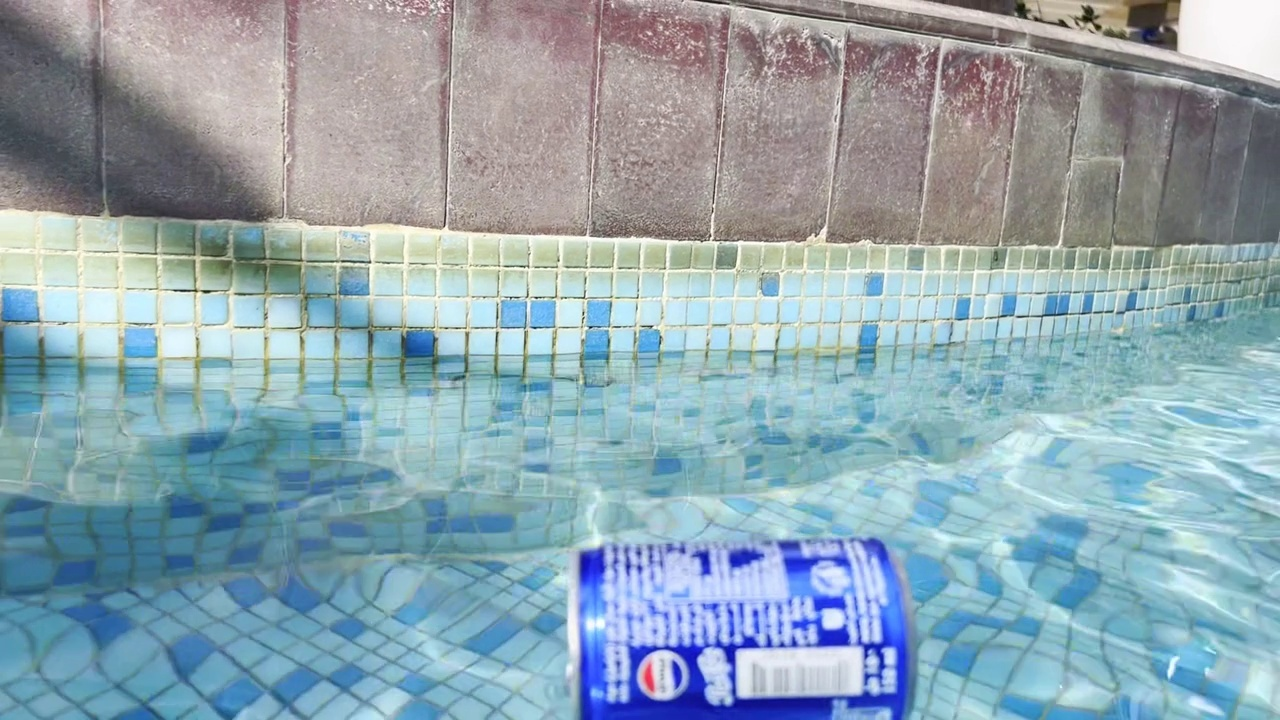debris: (551, 530, 928, 720)
